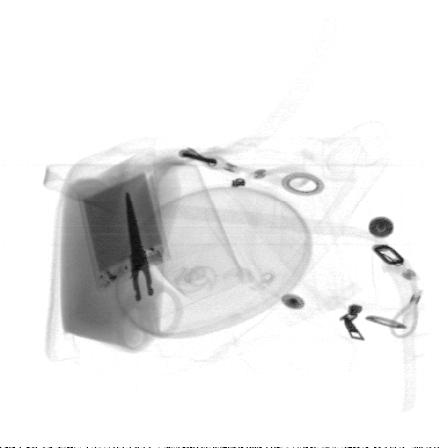Powerbank: (71, 160, 171, 290)
Scissors: (111, 189, 187, 353)
